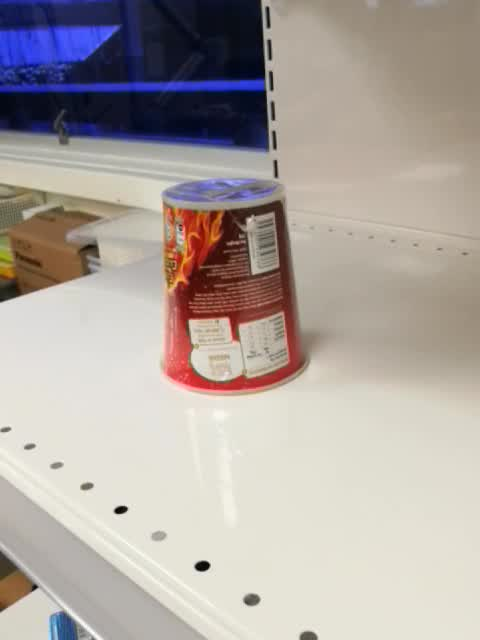maggi: (158, 176, 312, 395)
